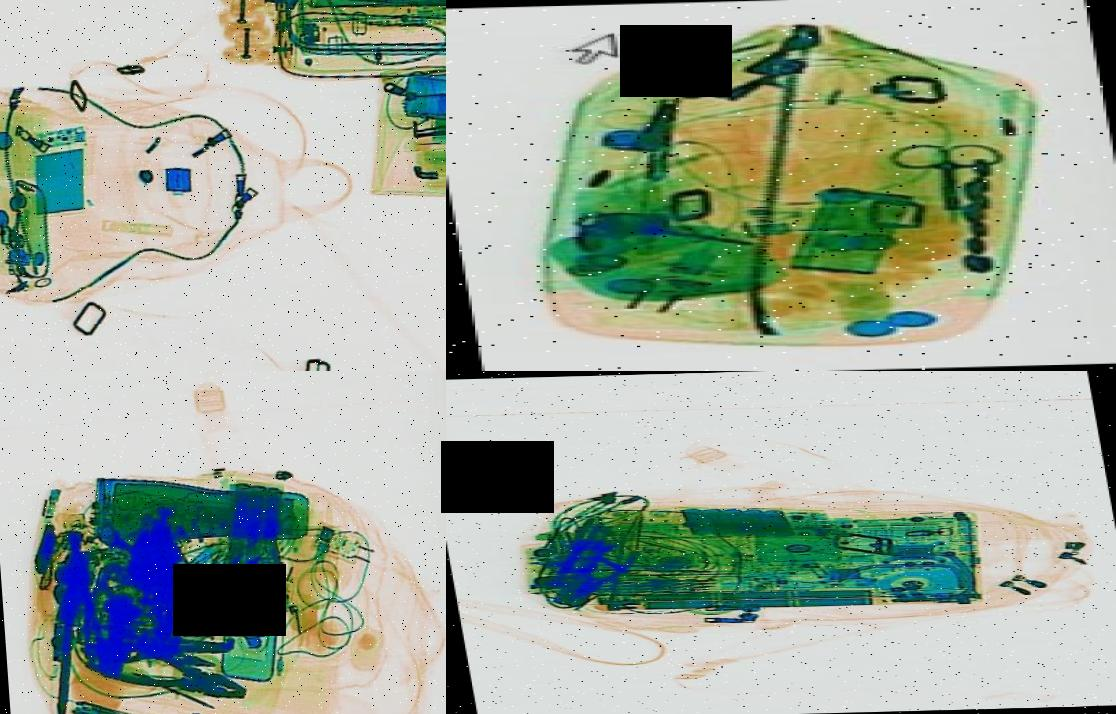Pliers: (81, 615, 253, 714), (541, 542, 657, 606)
Scissors: (883, 139, 1016, 212)
